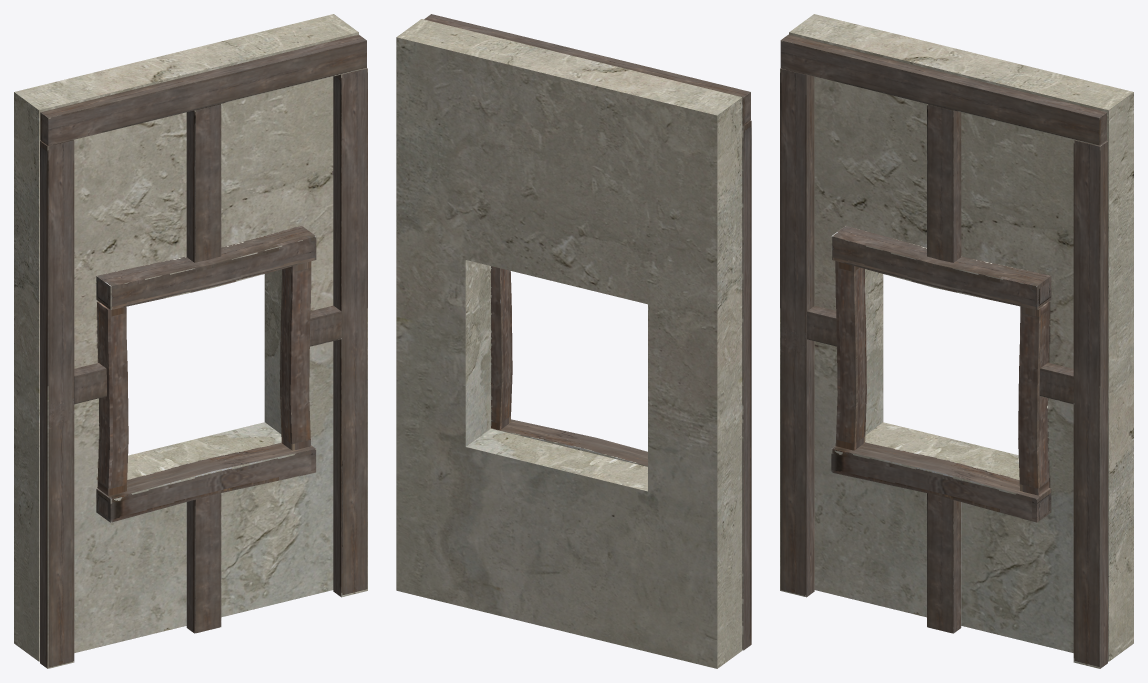
File: pared_1_ventana.fbx
3 views of the same model, side by side, from view 1: azimuth 30°, elevation 25°; view 2: azimuth 150°, elevation 25°; view 3: azimuth 330°, elevation 25° (orthographic).
Visible parts, largest first — view 1: pared_1_ventana; view 2: pared_1_ventana; view 3: pared_1_ventana.
Boxes of the visible parts, bbox=[...] form: pared_1_ventana: bbox=[14, 14, 367, 668]; pared_1_ventana: bbox=[396, 14, 751, 668]; pared_1_ventana: bbox=[780, 14, 1133, 668].
Bounding box in the file's own units: 300 × 495 × 64.42.
